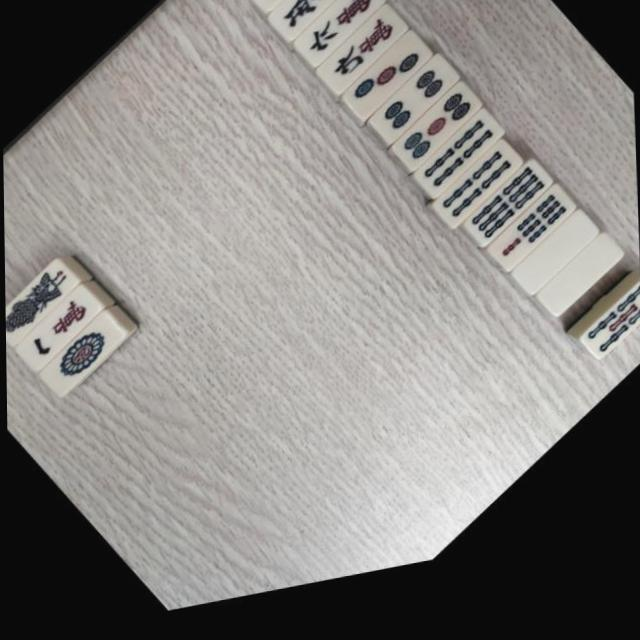hdw: (514, 234, 596, 317), (539, 257, 621, 339)
sb1: (3, 258, 79, 347)
sb4: (413, 127, 504, 217), (432, 161, 520, 247)
sb5: (579, 304, 640, 385)
sb6: (464, 180, 551, 267)
sb7: (487, 207, 574, 294)
sc1: (14, 286, 102, 375)
sc4: (247, 0, 338, 26)
sc5: (271, 0, 362, 54)
sc6: (296, 0, 385, 81)
sc9: (319, 21, 408, 109)
sd1: (38, 315, 125, 403)
sd3: (341, 47, 432, 138)
sd4: (371, 73, 457, 159)
sd5: (395, 101, 482, 188)
